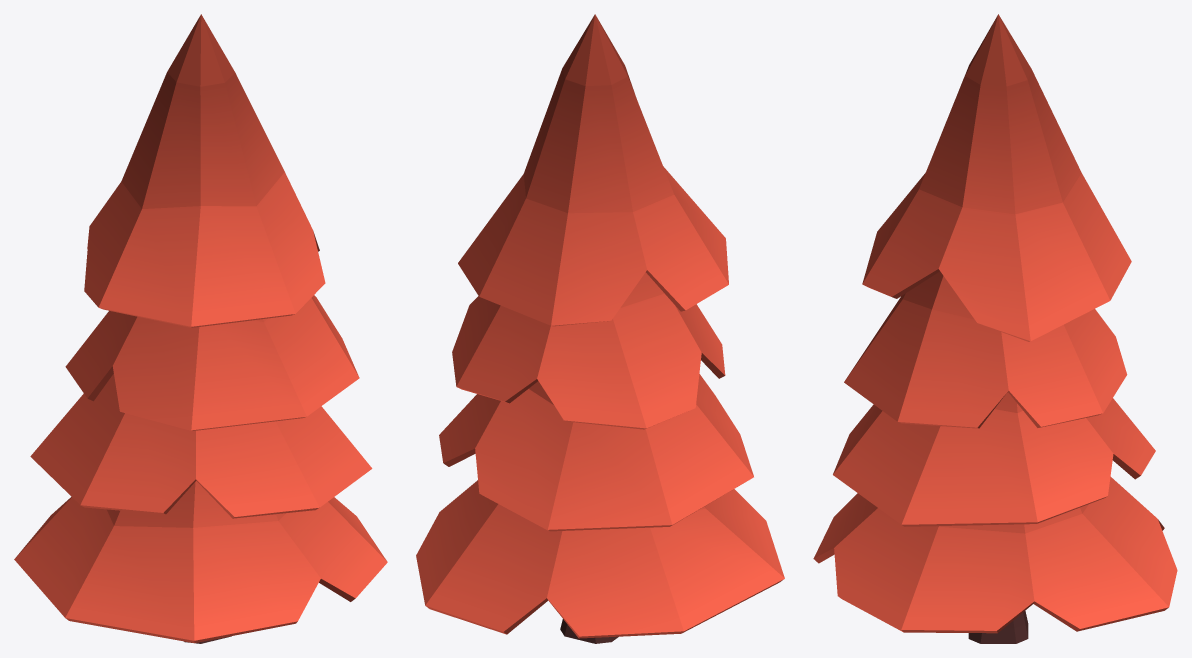
File: RedPine5.fbx
The picture shows the model from 3 angles, left to right: view 1: azimuth 30°, elevation 25°; view 2: azimuth 150°, elevation 25°; view 3: azimuth 270°, elevation 25°; orthographic projection.
Parts seen in each view (by area): view 1: RedPine5; view 2: RedPine5; view 3: RedPine5.
Part boxes in pixels (x1,y1,x2,y2): RedPine5: (14, 14, 387, 643); RedPine5: (416, 14, 784, 643); RedPine5: (813, 14, 1177, 643).
Size of the model in its own units: 503 by 931 by 498.
